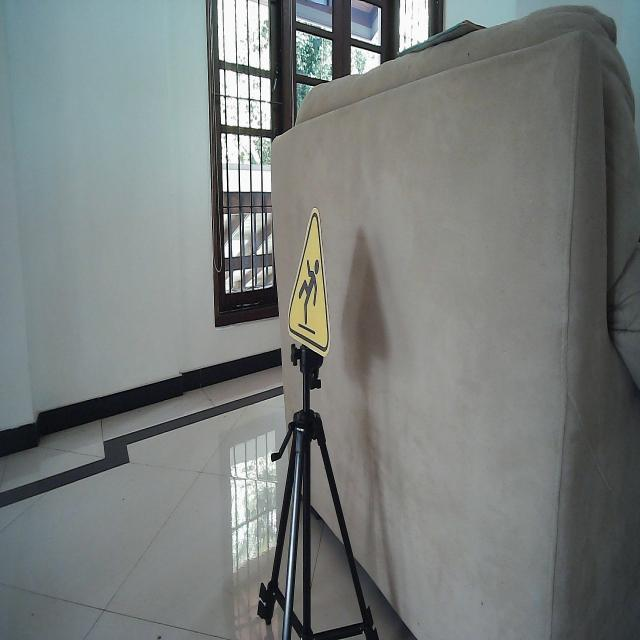slippery_sign: (286, 205, 332, 358)
